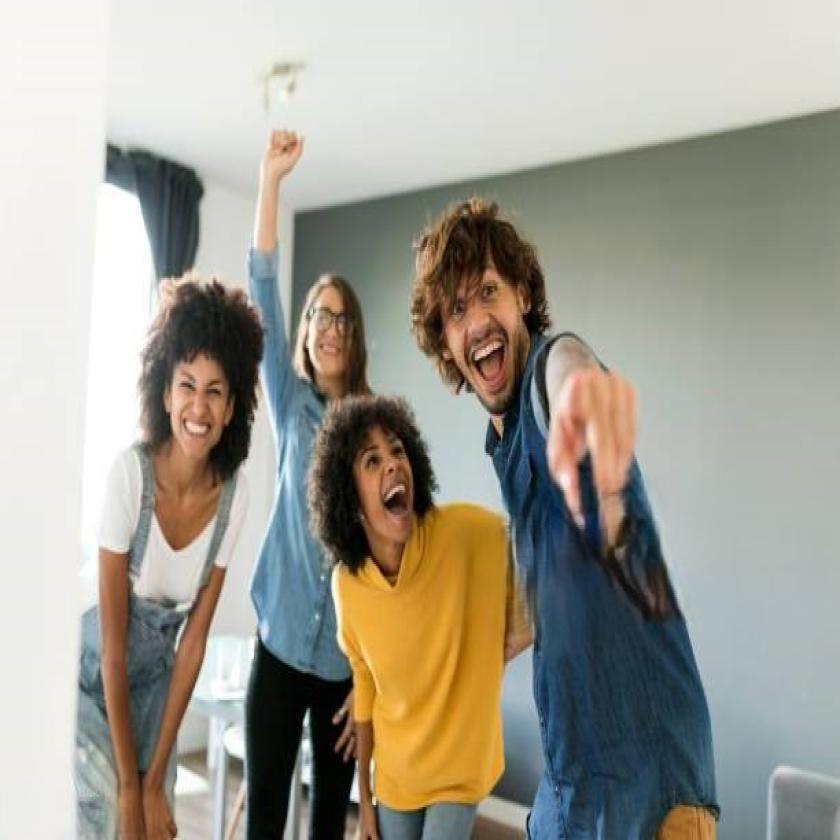Sin_casco: (430, 200, 531, 419), (321, 378, 431, 575), (158, 280, 253, 500), (301, 262, 368, 400)
